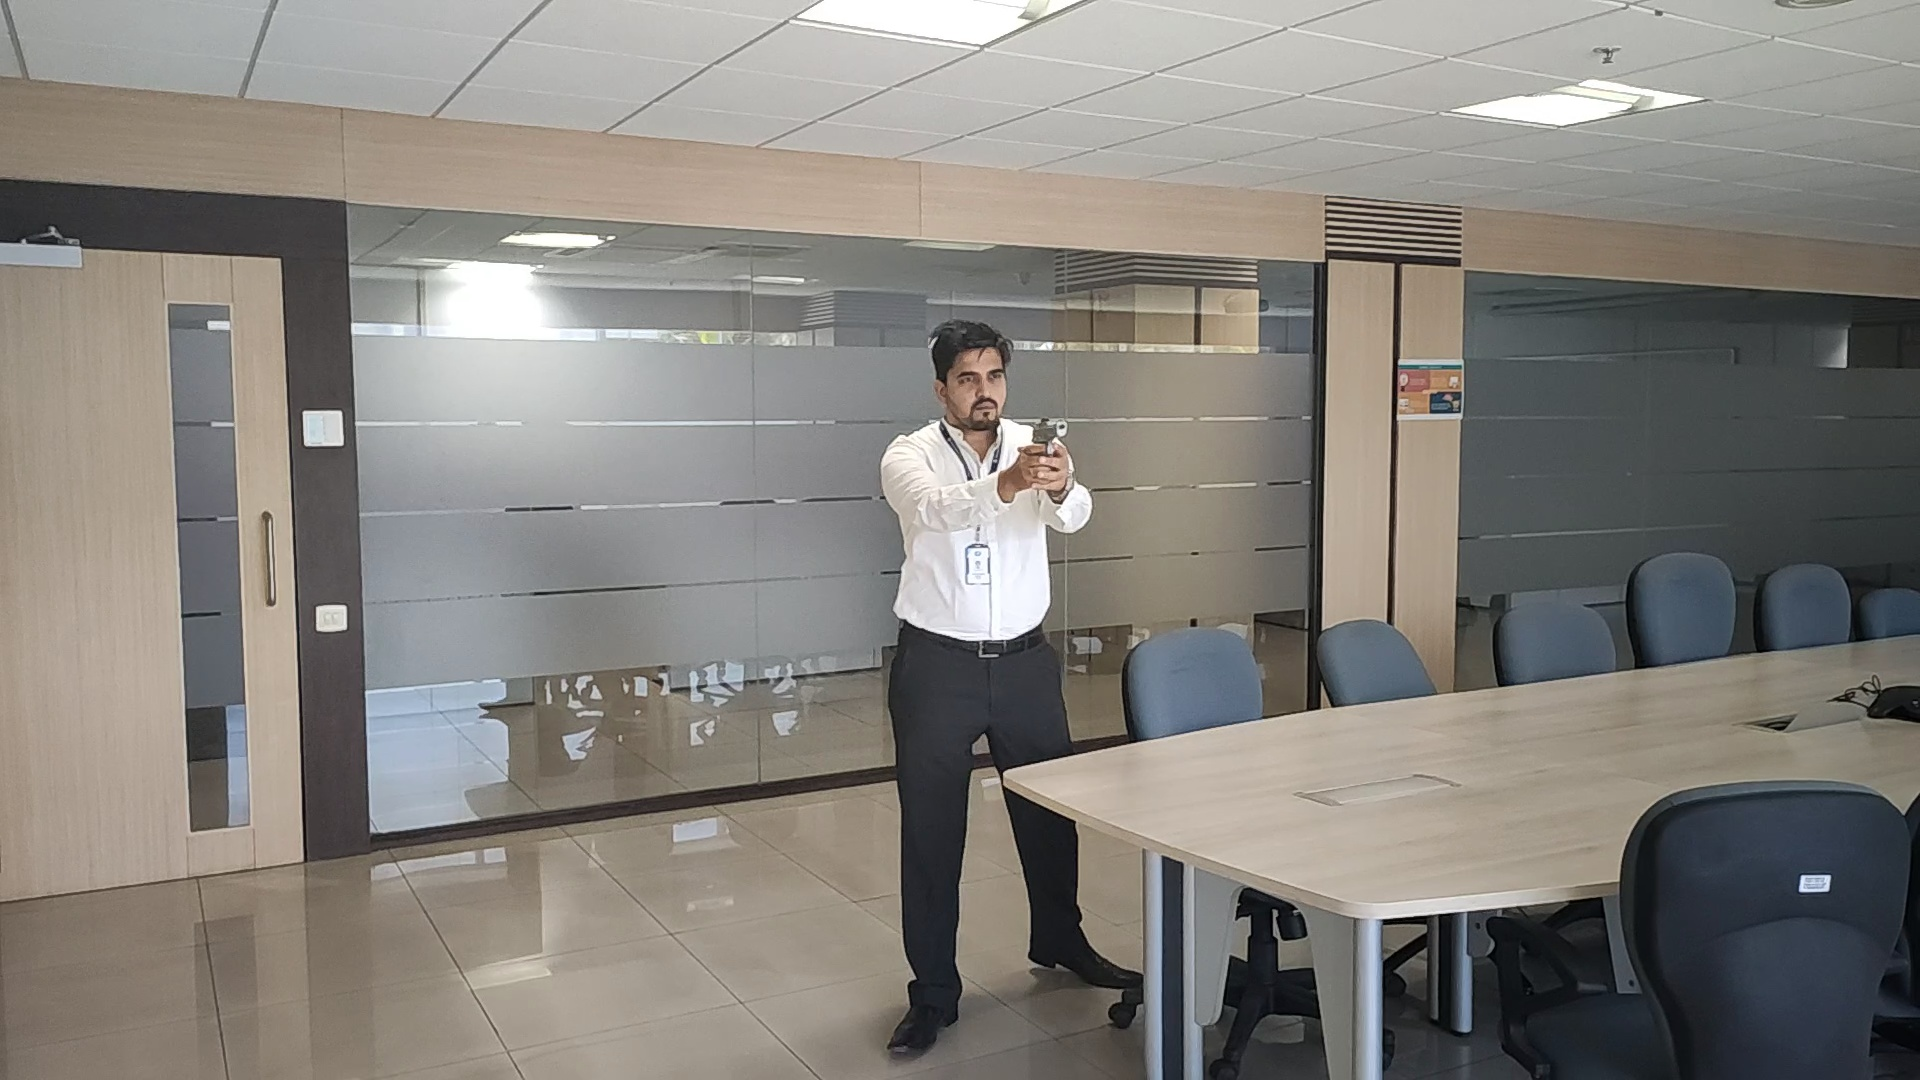gun: (1033, 417, 1069, 454)
